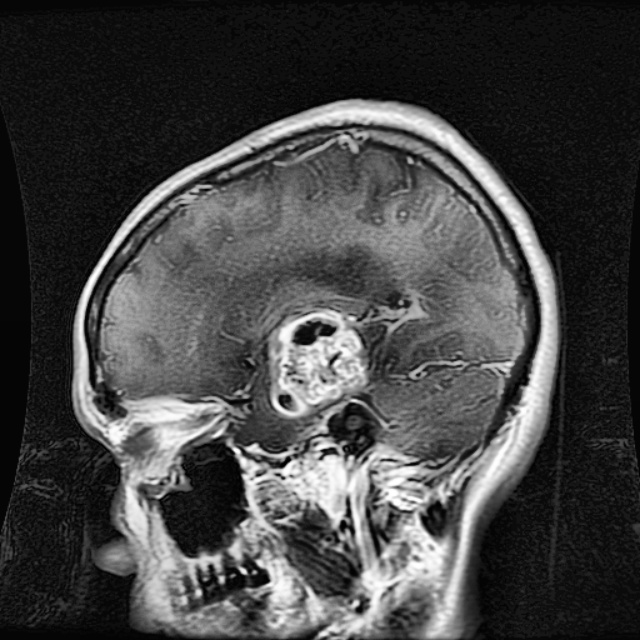Meningioma: (268, 309, 368, 415)
